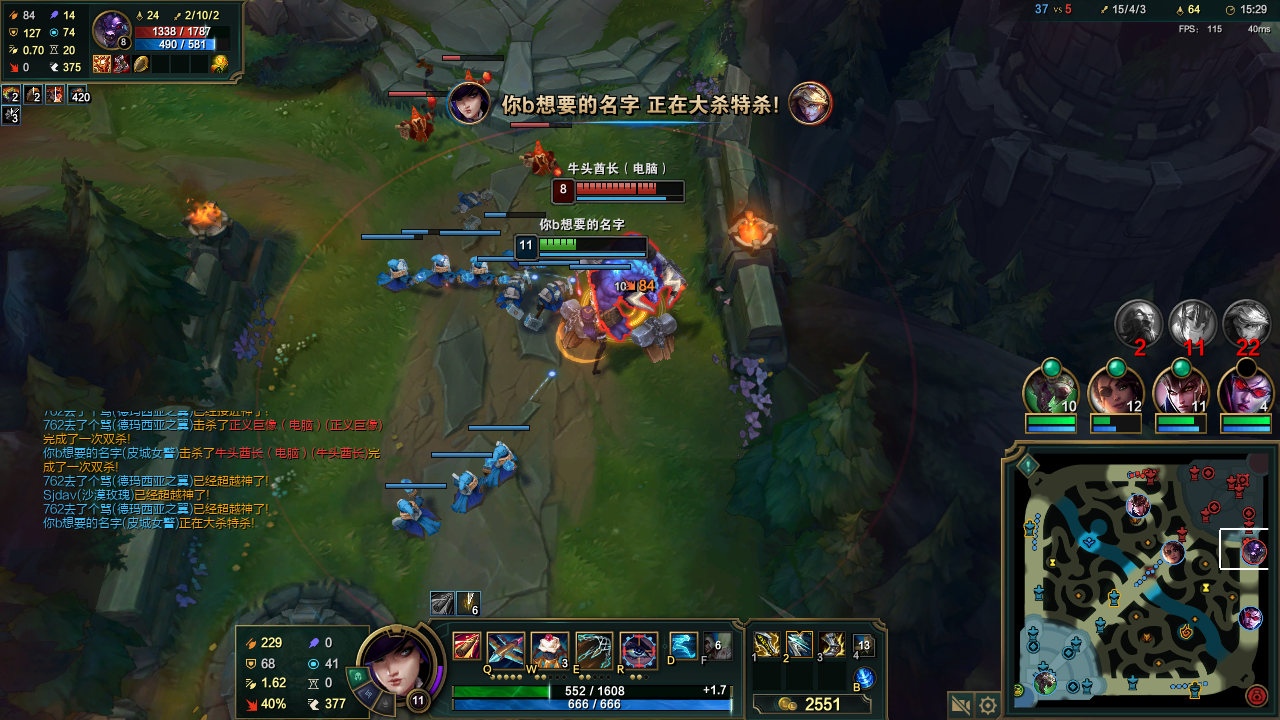DFXB: (395, 107, 434, 143), (519, 141, 558, 174), (458, 70, 493, 80)
DFYX: (572, 184, 675, 194)
WFXB: (474, 443, 528, 484), (438, 464, 486, 510), (397, 486, 441, 536), (528, 273, 564, 313), (413, 257, 453, 289), (491, 272, 524, 309), (453, 255, 488, 287), (375, 255, 403, 294), (503, 250, 519, 268)
